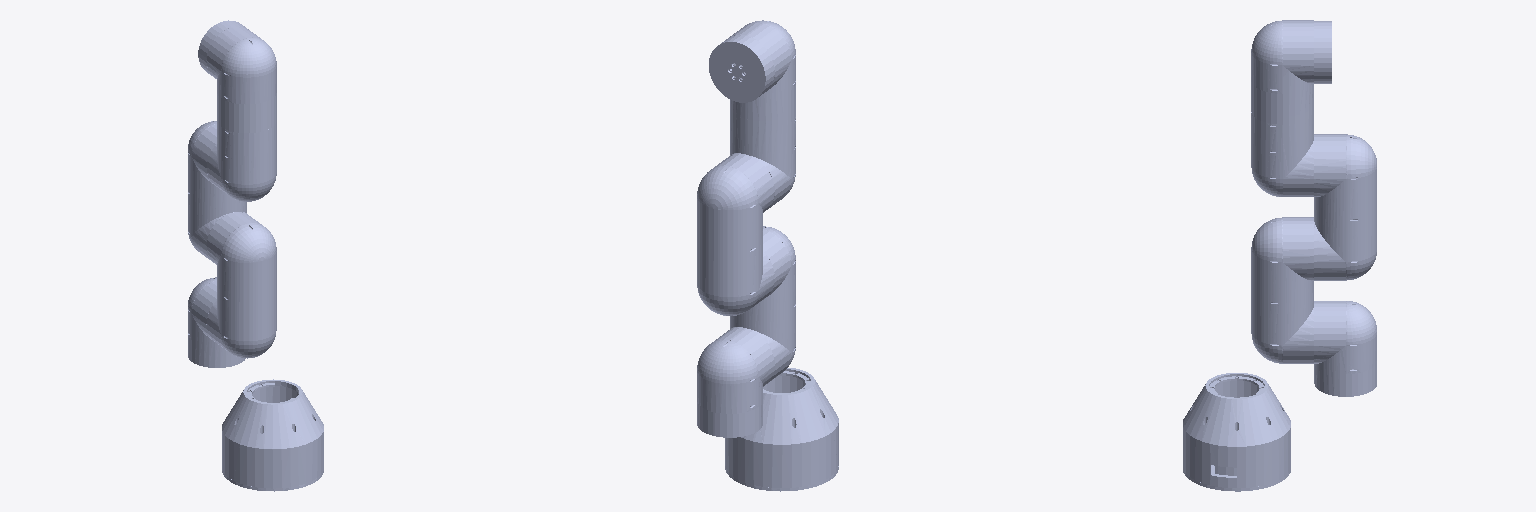
The robot description file, URDF, robot "ikfk":
<?xml version="1.0" encoding="utf-8"?>
<!-- This URDF was automatically created by SolidWorks to URDF Exporter! Originally created by [author] ([email redacted]) 
     Commit Version: 1.5.1-0-g916b5db  Build Version: 1.5.7152.31018
     For more information, please see http://wiki.ros.org/sw_urdf_exporter -->
<robot
  name="ikfk">
  <link
    name="l1">
    <visual>
      <origin
        xyz="0 0 0"
        rpy="0 0 0" />
      <geometry>
        <mesh
          filename="package://ikfk/meshes/l1.STL" />
      </geometry>
      <material
        name="">
        <color
          rgba="0.792156862745098 0.819607843137255 0.933333333333333 1" />
      </material>
    </visual>
    <collision>
      <origin
        xyz="0 0 0"
        rpy="0 0 0" />
      <geometry>
        <mesh
          filename="package://ikfk/meshes/l1.STL" />
      </geometry>
    </collision>
  </link>
  <link
    name="l2">
    <inertial>
      <origin
        xyz="0 0 0"
        rpy="0 0 0" />
      <mass
        value="0.347127023267661" />
      <inertia
        ixx="0.0010631192190086"
        ixy="6.15593279798226E-06"
        ixz="0.000161124006894344"
        iyy="0.000931431429298643"
        iyz="-1.83909348020823E-05"
        izz="0.00072003854037119" />
    </inertial>
    <visual>
      <origin
        xyz="0 0 0"
        rpy="0 0 0" />
      <geometry>
        <mesh
          filename="package://ikfk/meshes/l2.STL" />
      </geometry>
      <material
        name="">
        <color
          rgba="0.792156862745098 0.819607843137255 0.933333333333333 1" />
      </material>
    </visual>
    <collision>
      <origin
        xyz="0 0 0"
        rpy="0 0 0" />
      <geometry>
        <mesh
          filename="package://ikfk/meshes/l2.STL" />
      </geometry>
    </collision>
  </link>
  <joint
    name="j2"
    type="revolute">
    <origin
      xyz="0.0 0.0 0.076805"
      rpy="3.1416 0 -1.5708" />
    <parent
      link="l1" />
    <child
      link="l2" />
    <axis
      xyz="0 0 1" />
    <limit
      lower="-3.14"
      upper="3.14"
      effort="0"
      velocity="0" />
  </joint>
  <link
    name="l3">
    <inertial>
      <origin
        xyz="1.37195912323917E-06 0.0646794629105503 -0.0485196106286587"
        rpy="0 0 0" />
      <mass
        value="0.583453144895476" />
      <inertia
        ixx="0.00328336018185868"
        ixy="9.68500972067701E-09"
        ixz="-5.28773122862605E-09"
        iyy="0.000909190266083572"
        iyz="-2.81677088089766E-05"
        izz="0.00389999556317457" />
    </inertial>
    <visual>
      <origin
        xyz="0 0 0"
        rpy="0 0 0" />
      <geometry>
        <mesh
          filename="package://ikfk/meshes/l3.STL" />
      </geometry>
      <material
        name="">
        <color
          rgba="0.792156862745098 0.819607843137255 0.933333333333333 1" />
      </material>
    </visual>
    <collision>
      <origin
        xyz="0 0 0"
        rpy="0 0 0" />
      <geometry>
        <mesh
          filename="package://ikfk/meshes/l3.STL" />
      </geometry>
    </collision>
  </link>
  <joint
    name="j3"
    type="revolute">
    <origin
      xyz="0.054992 0 -0.099"
      rpy="-1.5708 0 1.5708" />
    <parent
      link="l2" />
    <child
      link="l3" />
    <axis
      xyz="0 0 1" />
    <limit
      lower="-3.14"
      upper="3.14"
      effort="0"
      velocity="0" />
  </joint>
  <link
    name="l4">
    <inertial>
      <origin
        xyz="0.000123532810478142 0.059730075861426 -0.0490246520414468"
        rpy="0 0 0" />
      <mass
        value="0.569532543154534" />
      <inertia
        ixx="0.00361842190269119"
        ixy="6.05083989004087E-06"
        ixz="2.09838730204066E-07"
        iyy="0.000902446541780071"
        iyz="-3.15103807275629E-05"
        izz="0.00423020835537969" />
    </inertial>
    <visual>
      <origin
        xyz="0 0 0"
        rpy="0 0 0" />
      <geometry>
        <mesh
          filename="package://ikfk/meshes/l4.STL" />
      </geometry>
      <material
        name="">
        <color
          rgba="0.792156862745098 0.819607843137255 0.933333333333333 1" />
      </material>
    </visual>
    <collision>
      <origin
        xyz="0 0 0"
        rpy="0 0 0" />
      <geometry>
        <mesh
          filename="package://ikfk/meshes/l4.STL" />
      </geometry>
    </collision>
  </link>
  <joint
    name="j4"
    type="revolute">
    <origin
      xyz="0 0.16 0"
      rpy="3.1416 0 -3.1416" />
    <parent
      link="l3" />
    <child
      link="l4" />
    <axis
      xyz="0 0 1" />
    <limit
      lower="-3.14"
      upper="3.14"
      effort="0"
      velocity="0" />
  </joint>
  <link
    name="l5">
    <inertial>
      <origin
        xyz="-0.0455868193439153 3.28775120669866E-08 -0.0232451647106656"
        rpy="0 0 0" />
      <mass
        value="0.439375654076011" />
      <inertia
        ixx="0.00164430181444721"
        ixy="-4.83318110242674E-10"
        ixz="-8.15513652380298E-05"
        iyy="0.00125393176666983"
        iyz="3.71418147083124E-10"
        izz="0.000702329493050405" />
    </inertial>
    <visual>
      <origin
        xyz="0 0 0"
        rpy="0 0 0" />
      <geometry>
        <mesh
          filename="package://ikfk/meshes/l5.STL" />
      </geometry>
      <material
        name="">
        <color
          rgba="0.792156862745098 0.819607843137255 0.933333333333333 1" />
      </material>
    </visual>
    <collision>
      <origin
        xyz="0 0 0"
        rpy="0 0 0" />
      <geometry>
        <mesh
          filename="package://ikfk/meshes/l5.STL" />
      </geometry>
    </collision>
  </link>
  <joint
    name="j5"
    type="revolute">
    <origin
      xyz="0 0.16 0"
      rpy="1.5708 1.5708 0" />
    <parent
      link="l4" />
    <child
      link="l5" />
    <axis
      xyz="1 0 0" />
    <limit
      lower="-3.14"
      upper="3.14"
      effort="0"
      velocity="0" />
  </joint>
  <link
    name="l6">
    <inertial>
      <origin
        xyz="0.00148871261288458 0.00029573531886019 -0.0628228486462078"
        rpy="0 0 0" />
      <mass
        value="0.334585426652201" />
      <inertia
        ixx="0.00106191583037582"
        ixy="-7.80849925393899E-07"
        ixz="0.000141944739515501"
        iyy="0.000890956181395683"
        iyz="-3.45067831895538E-06"
        izz="0.000695963723394054" />
    </inertial>
    <visual>
      <origin
        xyz="0 0 0"
        rpy="0 0 0" />
      <geometry>
        <mesh
          filename="package://ikfk/meshes/l6.STL" />
      </geometry>
      <material
        name="">
        <color
          rgba="0.792156862745098 0.819607843137255 0.933333333333333 1" />
      </material>
    </visual>
    <collision>
      <origin
        xyz="0 0 0"
        rpy="0 0 0" />
      <geometry>
        <mesh
          filename="package://ikfk/meshes/l6.STL" />
      </geometry>
    </collision>
  </link>
  <joint
    name="j6"
    type="revolute">
    <origin
      xyz="-0.055008 0 -0.12"
      rpy="0 0 0" />
    <parent
      link="l5" />
    <child
      link="l6" />
    <axis
      xyz="0 0 1" />
    <limit
      lower="-3.14"
      upper="3.14"
      effort="0"
      velocity="0" />
  </joint>
  <link
    name="end_link">
    <inertial>
      <origin
        xyz="0 -5.20417042793042E-18 0.0169609937058888"
        rpy="0 0 0" />
      <mass
        value="0.155292459158679" />
      <inertia
        ixx="0.000181315026178621"
        ixy="-3.08799285804403E-21"
        ixz="-1.0675067942841E-20"
        iyy="0.000181315026178621"
        iyz="-1.51710728690118E-20"
        izz="0.000334796454737857" />
    </inertial>
    <visual>
      <origin
        xyz="0 0 0"
        rpy="0 0 0" />
      <geometry>
        <mesh
          filename="package://ikfk/meshes/end_link.STL" />
      </geometry>
      <material
        name="">
        <color
          rgba="0.792156862745098 0.819607843137255 0.933333333333333 1" />
      </material>
    </visual>
    <collision>
      <origin
        xyz="0 0 0"
        rpy="0 0 0" />
      <geometry>
        <mesh
          filename="package://ikfk/meshes/end_link.STL" />
      </geometry>
    </collision>
  </link>
  <joint
    name="end_joint"
    type="revolute">
    <origin
      xyz="0.055 0 -0.099"
      rpy="0 1.5708 0" />
    <parent
      link="l6" />
    <child
      link="end_link" />
    <axis
      xyz="0 0 1" />
    <limit
      lower="-3.14"
      upper="3.14"
      effort="0"
      velocity="0" />
  </joint>
</robot>

--- Render facts (derived) ---
3 views of the same robot in one strip: view 1: azimuth 30°, elevation 25°; view 2: azimuth 150°, elevation 25°; view 3: azimuth 270°, elevation 25° (orthographic).
Robot: ikfk — 7 links, 6 joints (6 revolute); root link l1; default pose: all joints at 0.
Links seen in each view (by area): view 1: l1, l3, l6, l5, l4, l2, end_link; view 2: l4, l1, l2, l3, l5, l6, end_link; view 3: l1, l4, l3, l6, l2, l5, end_link.
Link boxes in pixels (<box>): l1: <box>222,379,323,491</box>; l3: <box>207,212,276,358</box>; l6: <box>206,27,276,125</box>; l5: <box>207,114,276,201</box>; l4: <box>188,121,246,260</box>; l2: <box>188,277,245,367</box>; end_link: <box>198,20,248,75</box>; l4: <box>697,154,774,315</box>; l1: <box>725,368,838,491</box>; l2: <box>697,328,774,437</box>; l3: <box>728,226,795,383</box>; l5: <box>730,109,795,207</box>; l6: <box>730,20,795,120</box>; end_link: <box>709,35,774,102</box>; l1: <box>1183,373,1290,491</box>; l4: <box>1314,134,1376,280</box>; l3: <box>1251,217,1313,363</box>; l6: <box>1251,20,1313,116</box>; l2: <box>1314,301,1376,396</box>; l5: <box>1251,104,1313,196</box>; end_link: <box>1314,21,1331,83</box>.
Size in the robot's own frame: 0.19 by 0.34 by 0.852 metres.
Meshes: 7 distinct files referenced, 7 mesh visuals loaded (7 binary STL).